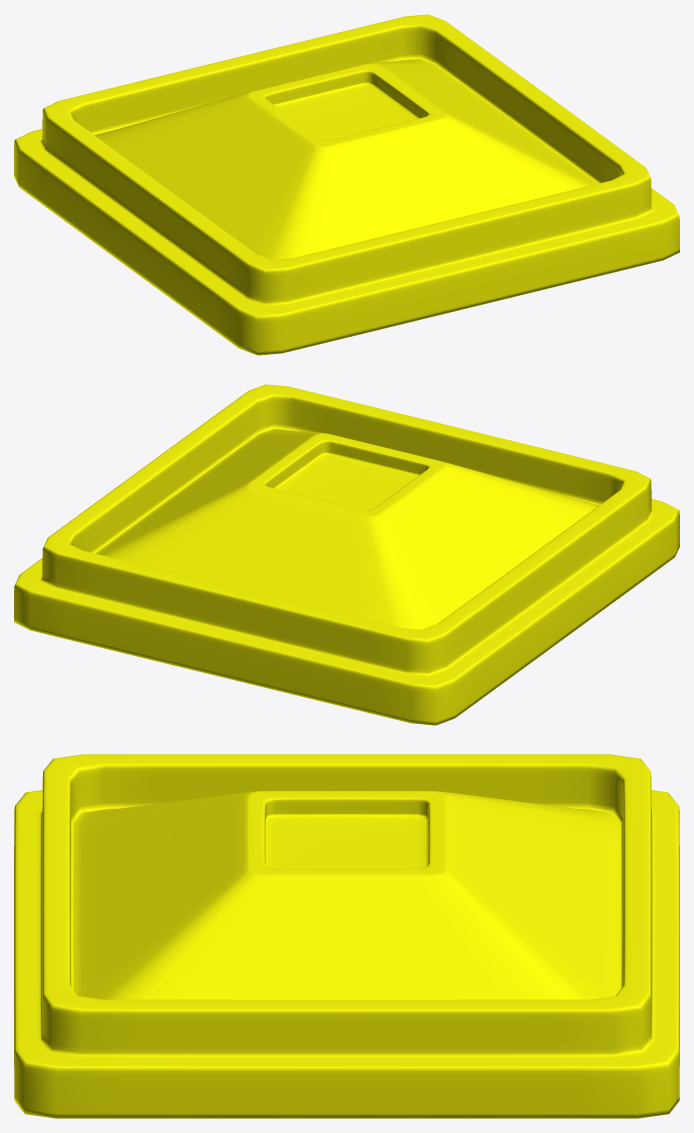
The picture shows the model from 3 angles, top to bottom: view 1: azimuth 30°, elevation 25°; view 2: azimuth 150°, elevation 25°; view 3: azimuth 270°, elevation 25°; orthographic projection. The views are drawn at different scales.
Visible parts, largest first — view 1: polySurface1080; view 2: polySurface1080; view 3: polySurface1080.
Part boxes in pixels (box(x1,y1,x2,y2)): polySurface1080: box(14, 14, 679, 355); polySurface1080: box(14, 384, 679, 725); polySurface1080: box(14, 754, 679, 1118).
Bounding box in the file's own units: 1.1 × 0.2712 × 1.1.
